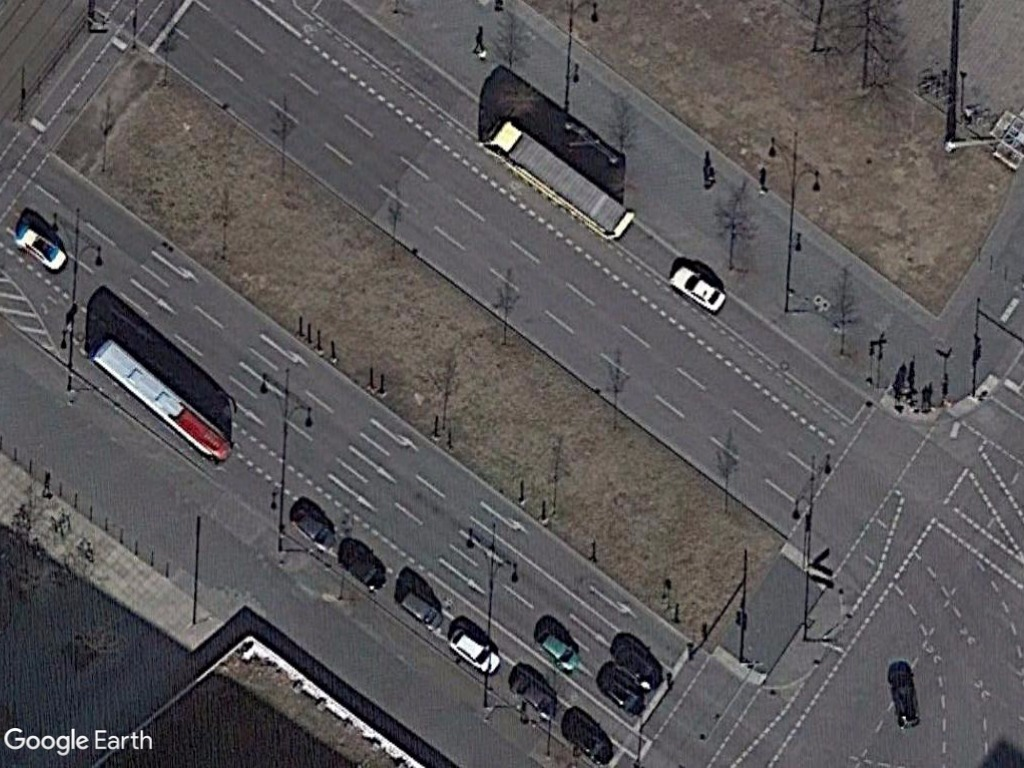bus: (88, 332, 238, 469)
car: (666, 259, 731, 312), (447, 623, 504, 680), (10, 221, 72, 273), (528, 624, 584, 674), (398, 584, 446, 636)
longvehicle: (483, 120, 642, 245)
